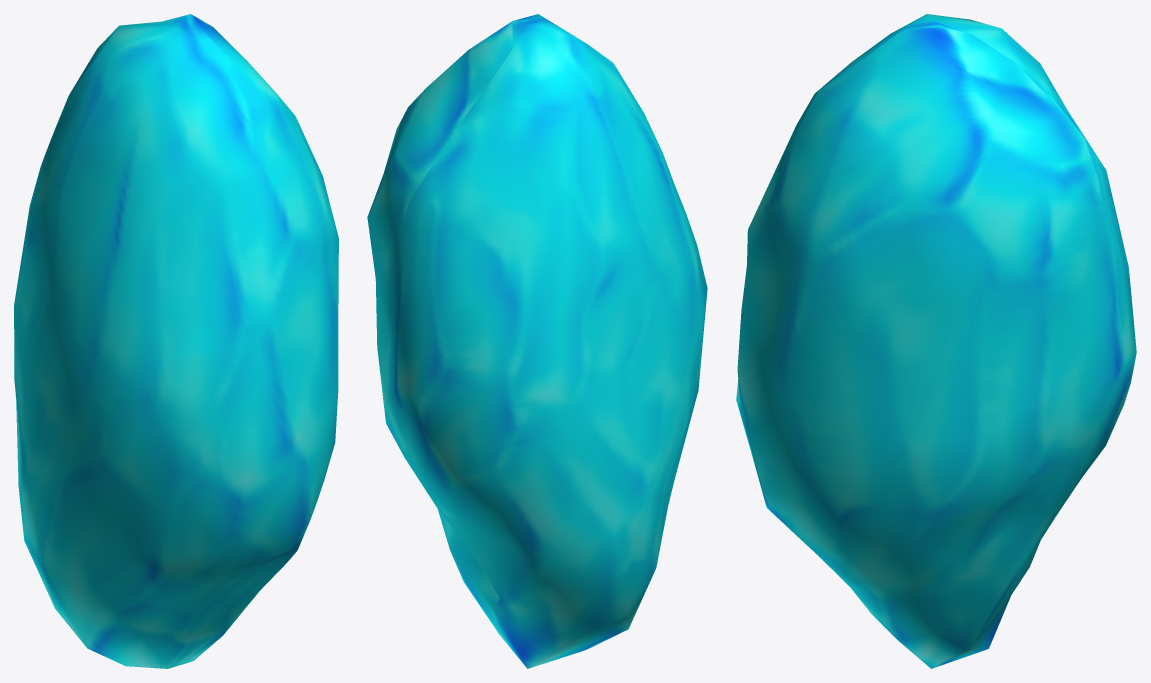
Rendered from Crystal_A.fbx.
3 views of the same model, side by side, from view 1: azimuth 30°, elevation 25°; view 2: azimuth 150°, elevation 25°; view 3: azimuth 270°, elevation 25° (orthographic). The views are drawn at different scales.
Visible parts, largest first — view 1: Crystal_A__1_; view 2: Crystal_A__1_; view 3: Crystal_A__1_.
Part boxes in pixels (left/top/right/bottom): Crystal_A__1_: left=14, top=14, right=338, bottom=668; Crystal_A__1_: left=367, top=14, right=707, bottom=668; Crystal_A__1_: left=736, top=14, right=1136, bottom=668.
Bounding box in the file's own units: 0.3087 × 0.7188 × 0.4055.
